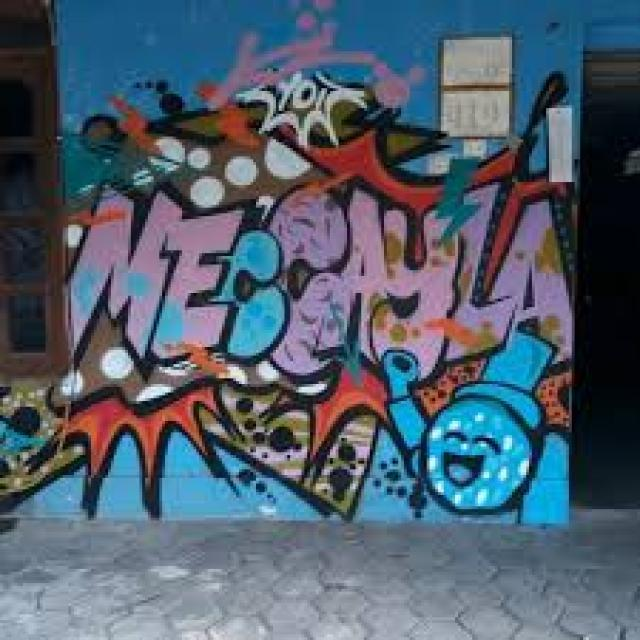-: (0, 21, 574, 523)
